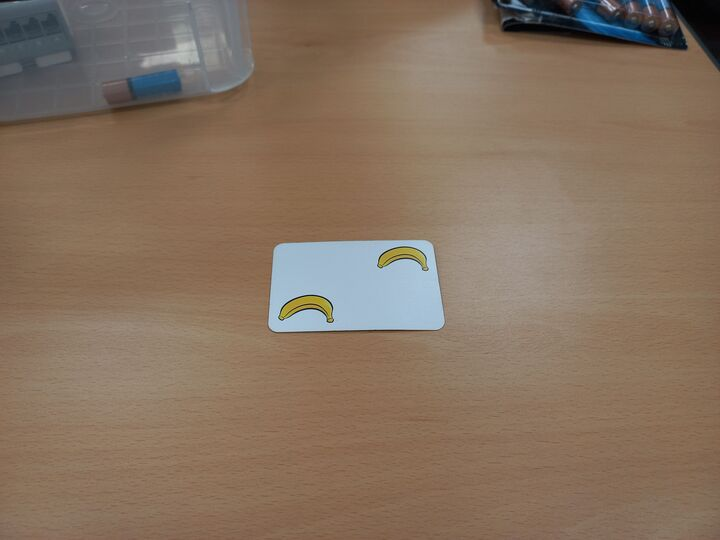banana2: (263, 236, 449, 333)
